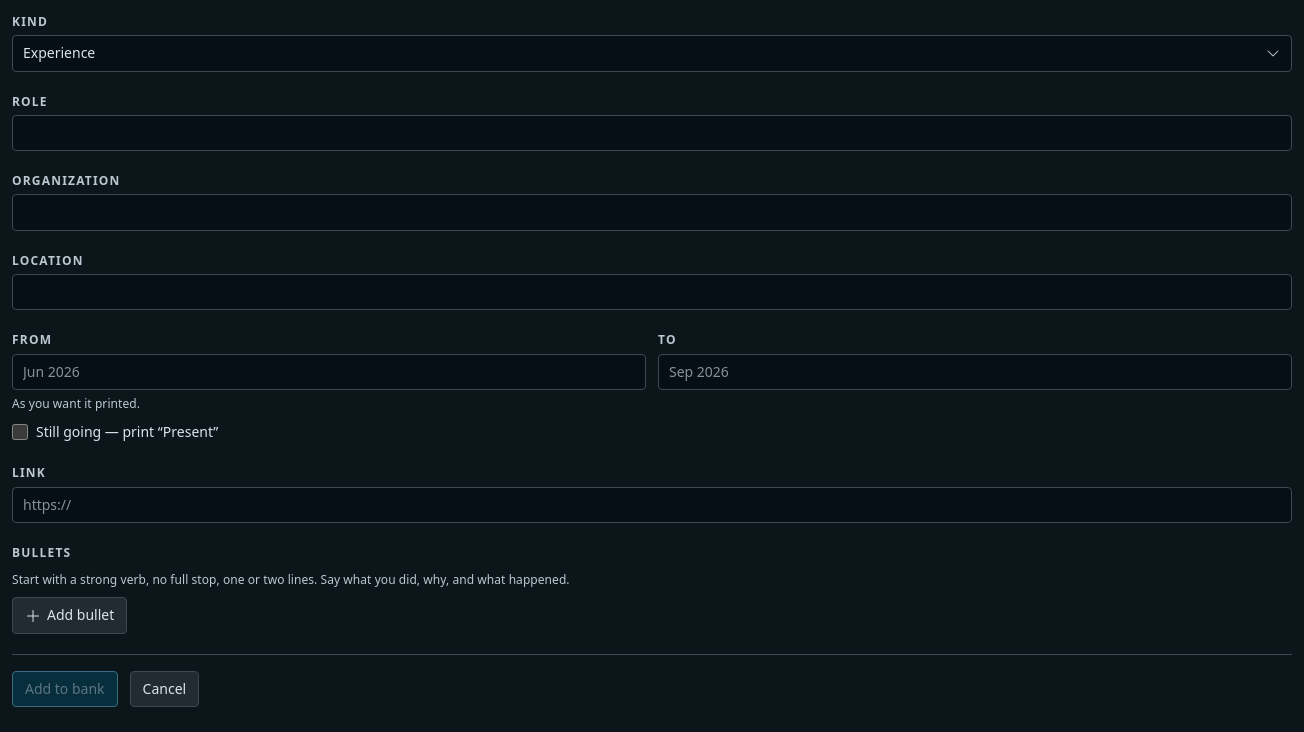
Test: BankEntryForm / what each kind asks for › asks a project for its stack instead of an employer
Click the button with aria-label "kind": point(59, 53) top-left (12, 35), bottom-right (1292, 72)
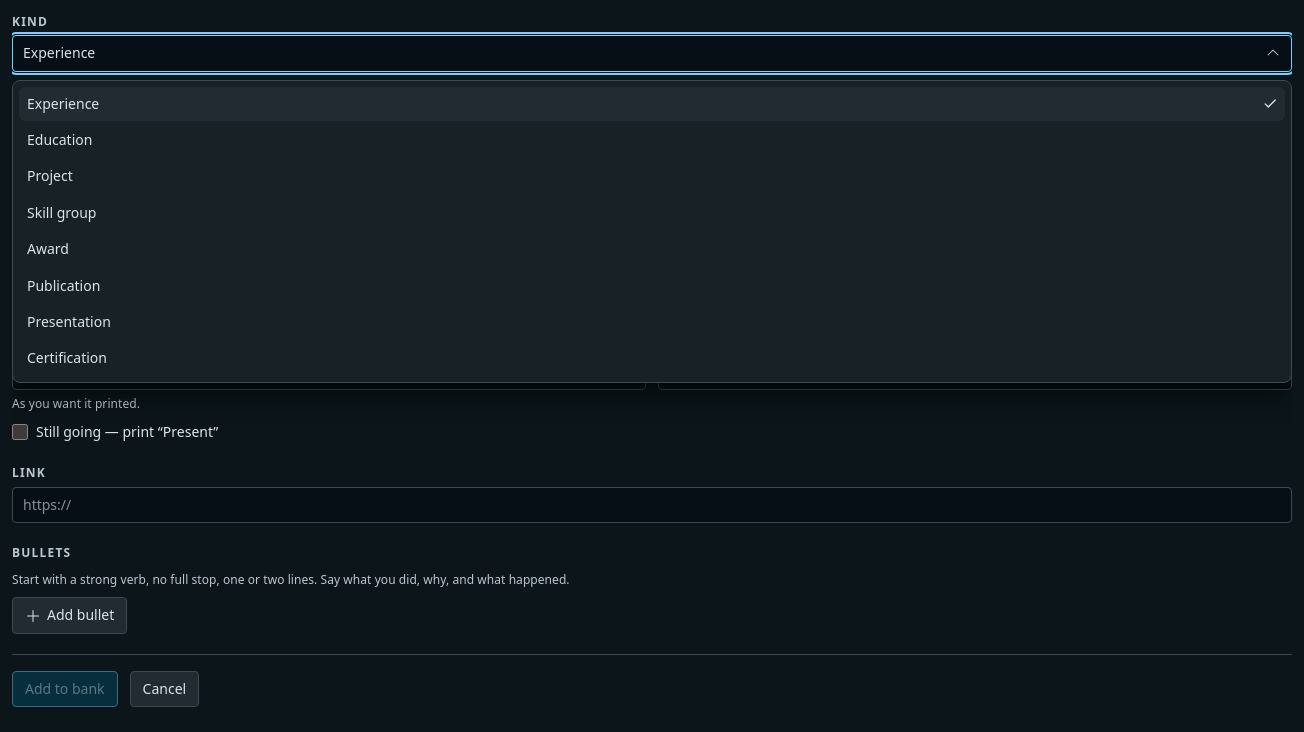
Click the option "Project": point(50, 176) top-left (27, 166), bottom-right (73, 185)
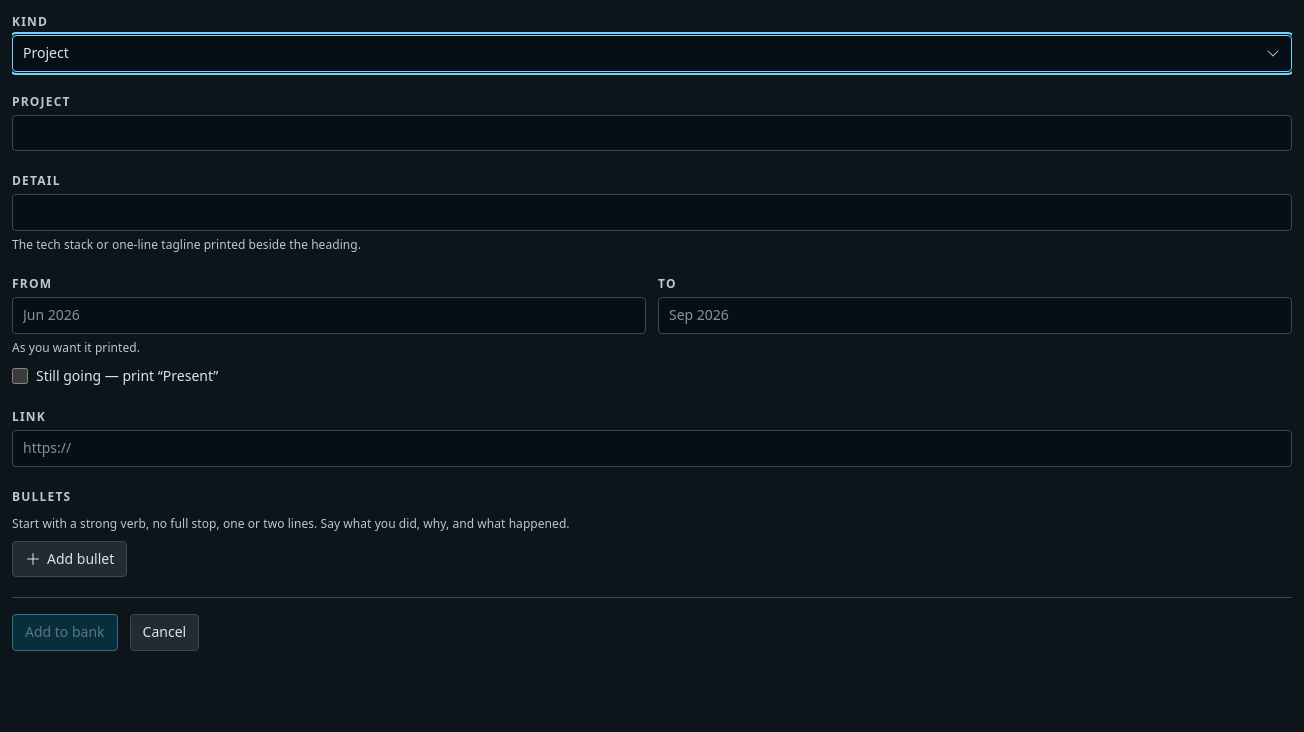
Expected: the field labelled "Detail" is shown, top-left (12, 194), bottom-right (1292, 231)
Expected: the text "Organization" is gone
